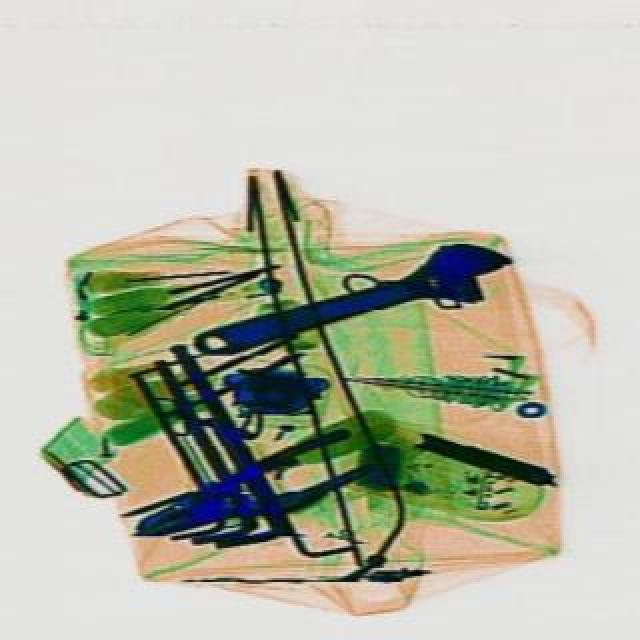scissors: (180, 226, 520, 378)
wrench: (130, 422, 368, 558)
